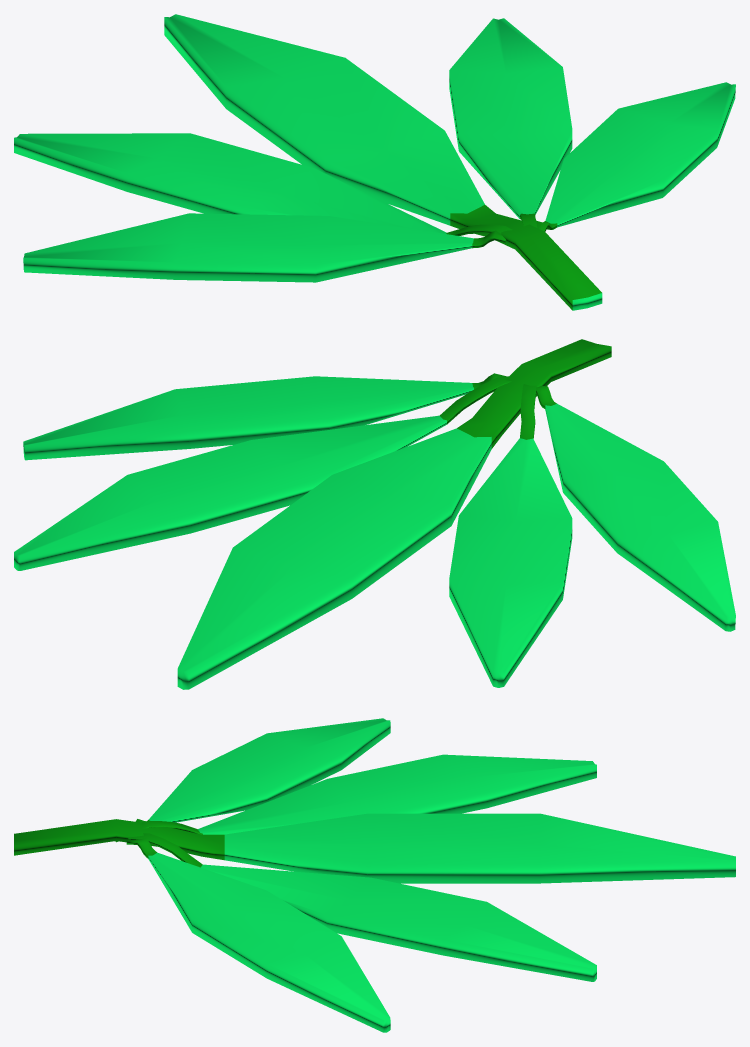
Rendered from BuenaHierba.fbx.
3 renders of one model, top to bottom at view 1: azimuth 30°, elevation 25°; view 2: azimuth 150°, elevation 25°; view 3: azimuth 270°, elevation 25°, orthographic. The views are drawn at different scales.
Visible parts, largest first — view 1: Cube.004; view 2: Cube.004; view 3: Cube.004.
Boxes of the visible parts, bbox=[...] form: Cube.004: bbox=[14, 14, 735, 310]; Cube.004: bbox=[14, 339, 735, 689]; Cube.004: bbox=[14, 718, 735, 1032].
Size of the model in its own units: 52.78 by 4.58 by 53.29.
